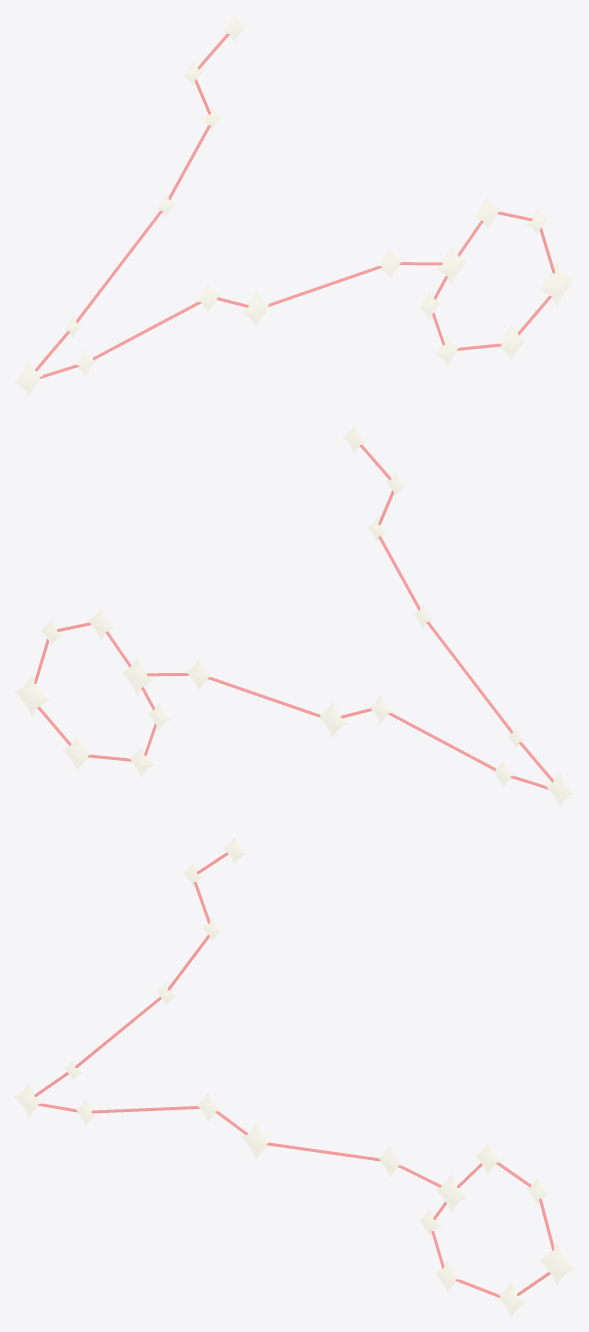
The model's file is sozvezdiya-ribi.glb.
3 renders of one model, top to bottom at view 1: azimuth 30°, elevation 25°; view 2: azimuth 150°, elevation 25°; view 3: azimuth 330°, elevation 25°, orthographic.
Visible parts, largest first — view 1: Cylinder, Sphere.013, Sphere.010, Sphere.008; view 2: Cylinder, Sphere.013, Sphere.010, Sphere.008; view 3: Cylinder, Sphere.013.
Part boxes in pixels (left/top/right/bottom): Cylinder: left=35, top=33, right=554, bottom=378; Sphere.013: left=539, top=263, right=574, bottom=305; Sphere.010: left=435, top=245, right=467, bottom=284; Sphere.008: left=241, top=290, right=268, bottom=327; Cylinder: left=34, top=444, right=553, bottom=789; Sphere.013: left=14, top=674, right=49, bottom=716; Sphere.010: left=121, top=656, right=153, bottom=695; Sphere.008: left=319, top=701, right=347, bottom=738; Cylinder: left=34, top=852, right=554, bottom=1297; Sphere.013: left=539, top=1243, right=574, bottom=1285.
Bounding box in the file's own units: 0.2424 × 0.171 × 0.00506.
